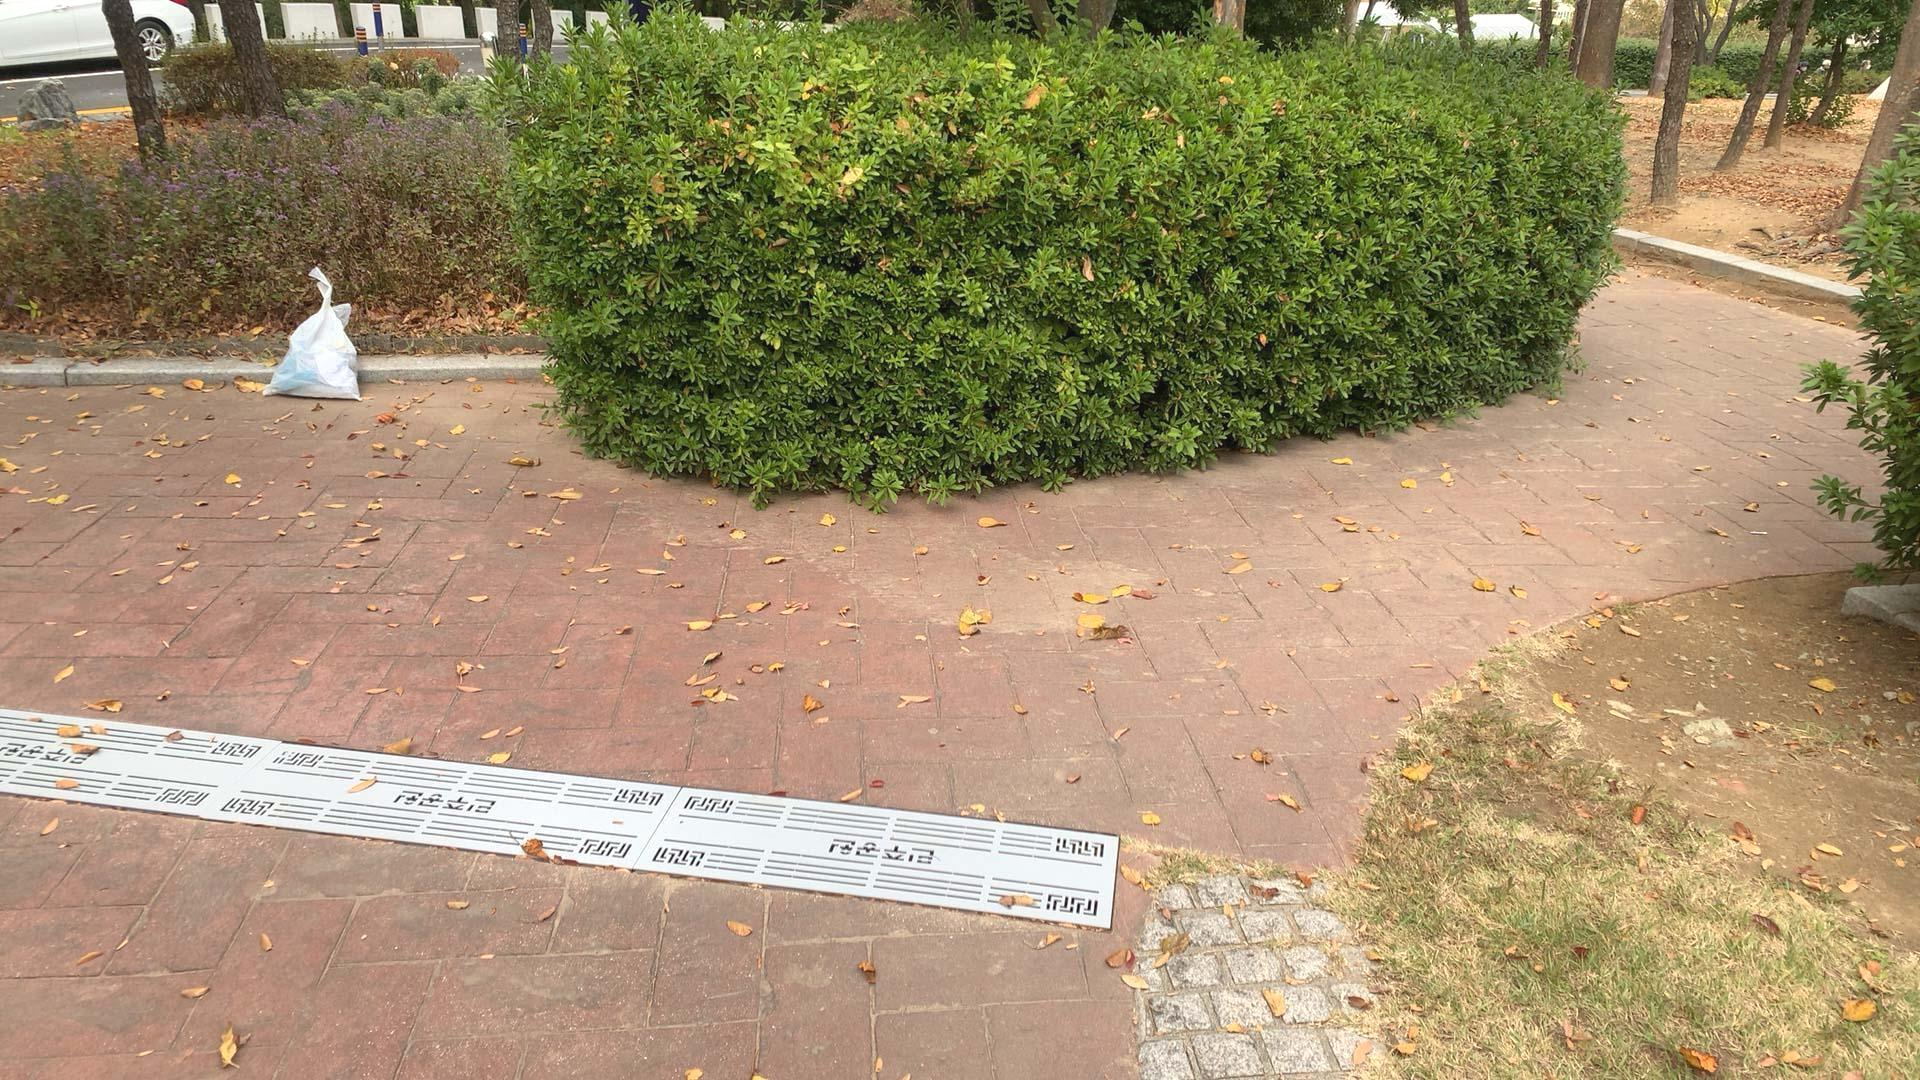white_bag: (258, 261, 371, 405)
